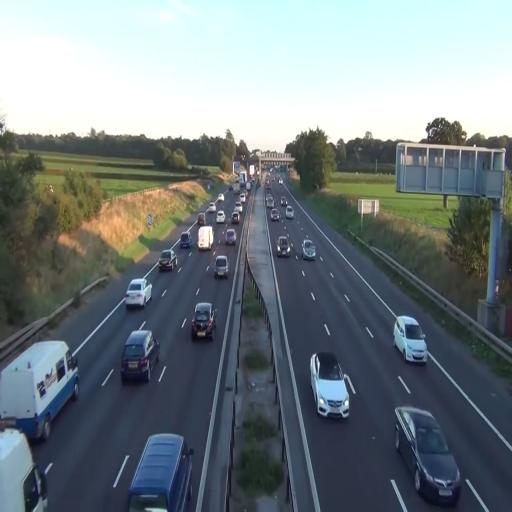vehicle: (0, 339, 80, 443), (393, 405, 462, 505), (127, 431, 194, 512), (0, 426, 49, 512), (310, 352, 351, 418), (120, 327, 158, 383), (394, 315, 428, 365), (192, 302, 216, 340), (125, 278, 153, 310), (214, 254, 230, 280), (198, 226, 214, 251), (159, 250, 177, 272), (276, 234, 291, 256), (302, 238, 316, 260), (224, 227, 237, 246), (179, 232, 192, 251), (268, 203, 280, 222), (282, 204, 294, 218)
